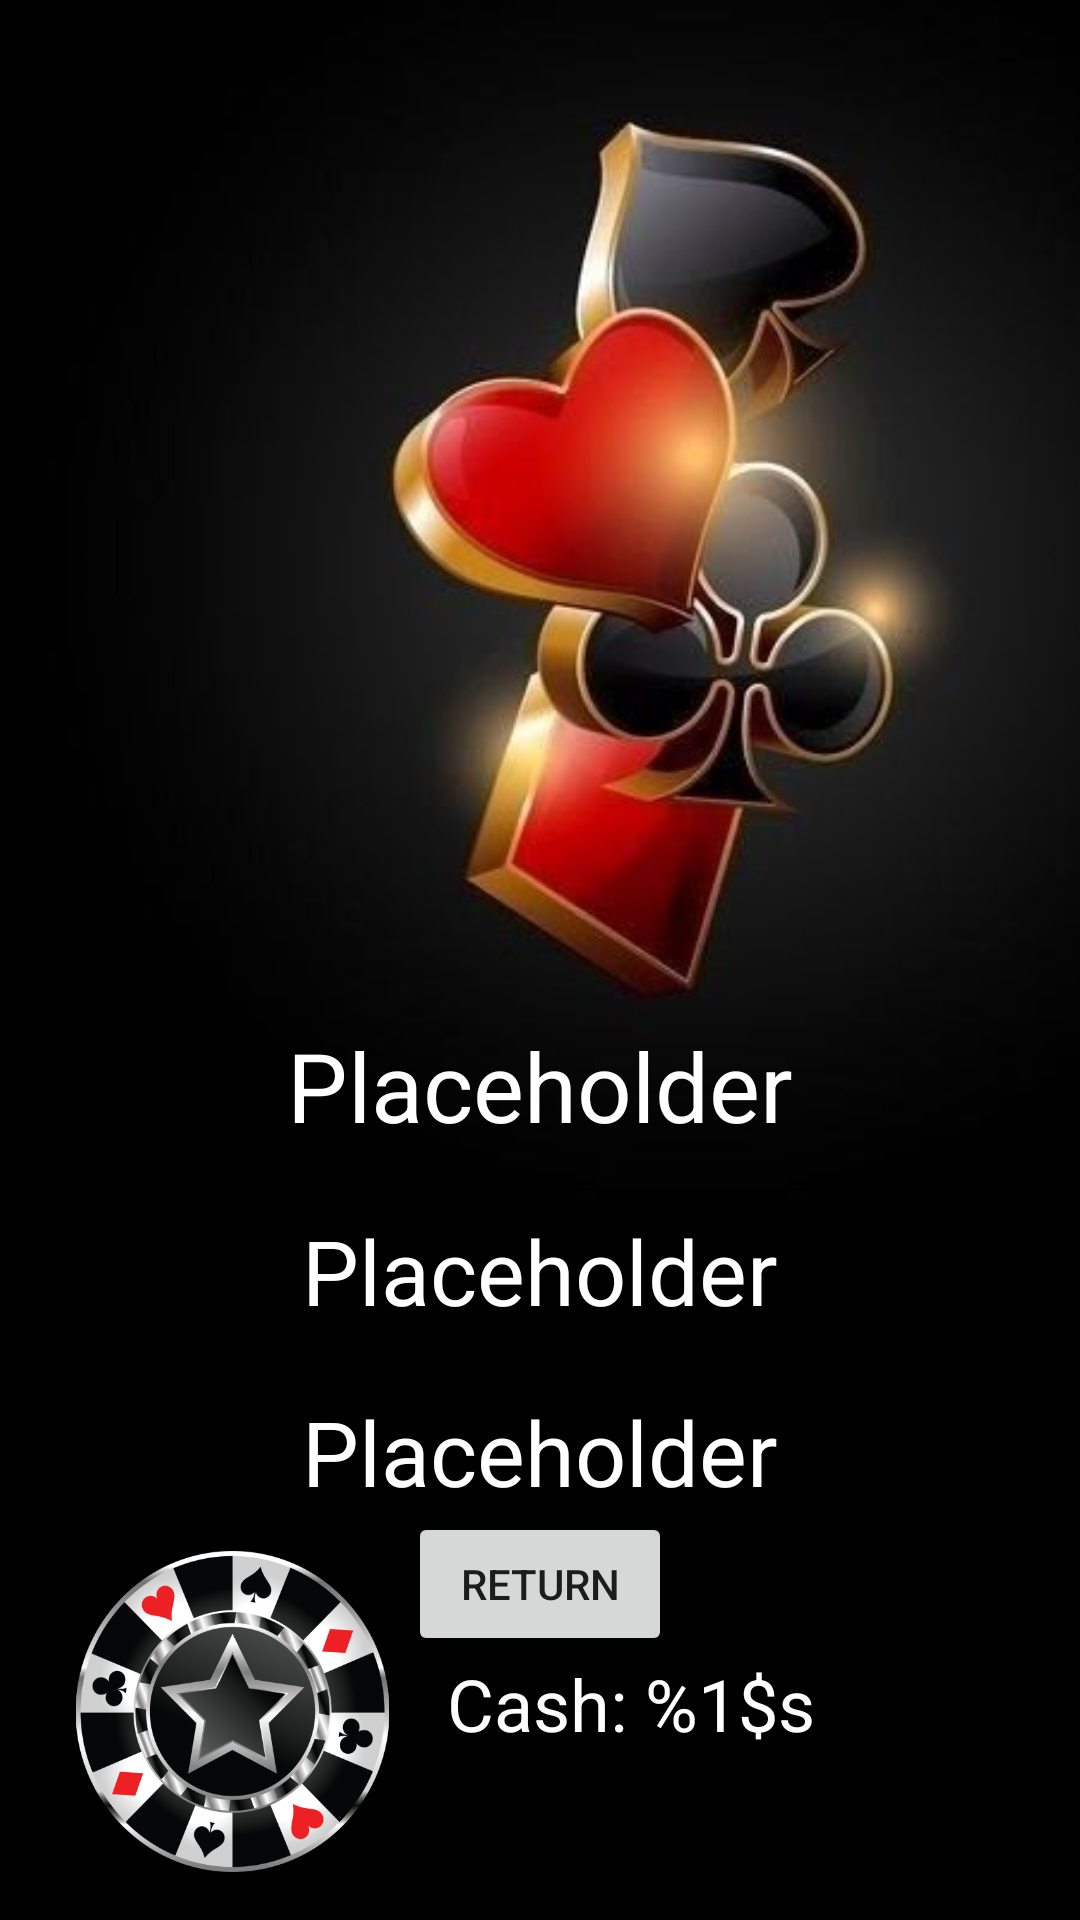

Icons on this 1080*1920 Android screen, each with the point to tap as (x=x, y=y):
poker chip: (x=232, y=1711)
